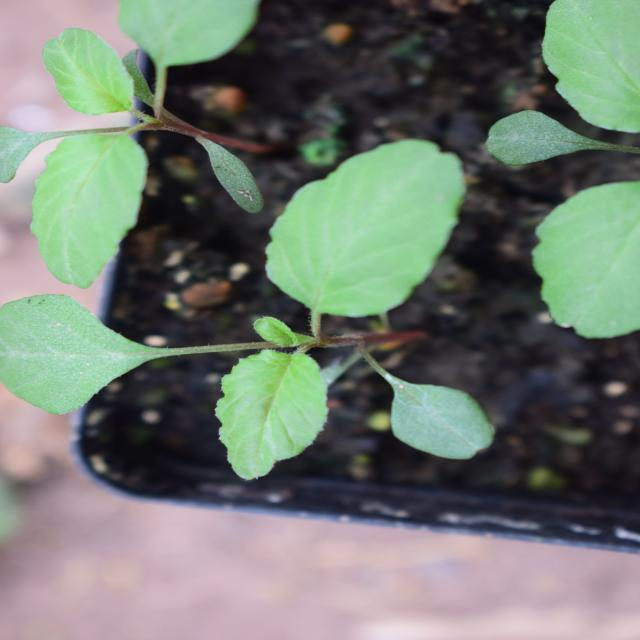pigweed: (153, 0, 487, 492)
